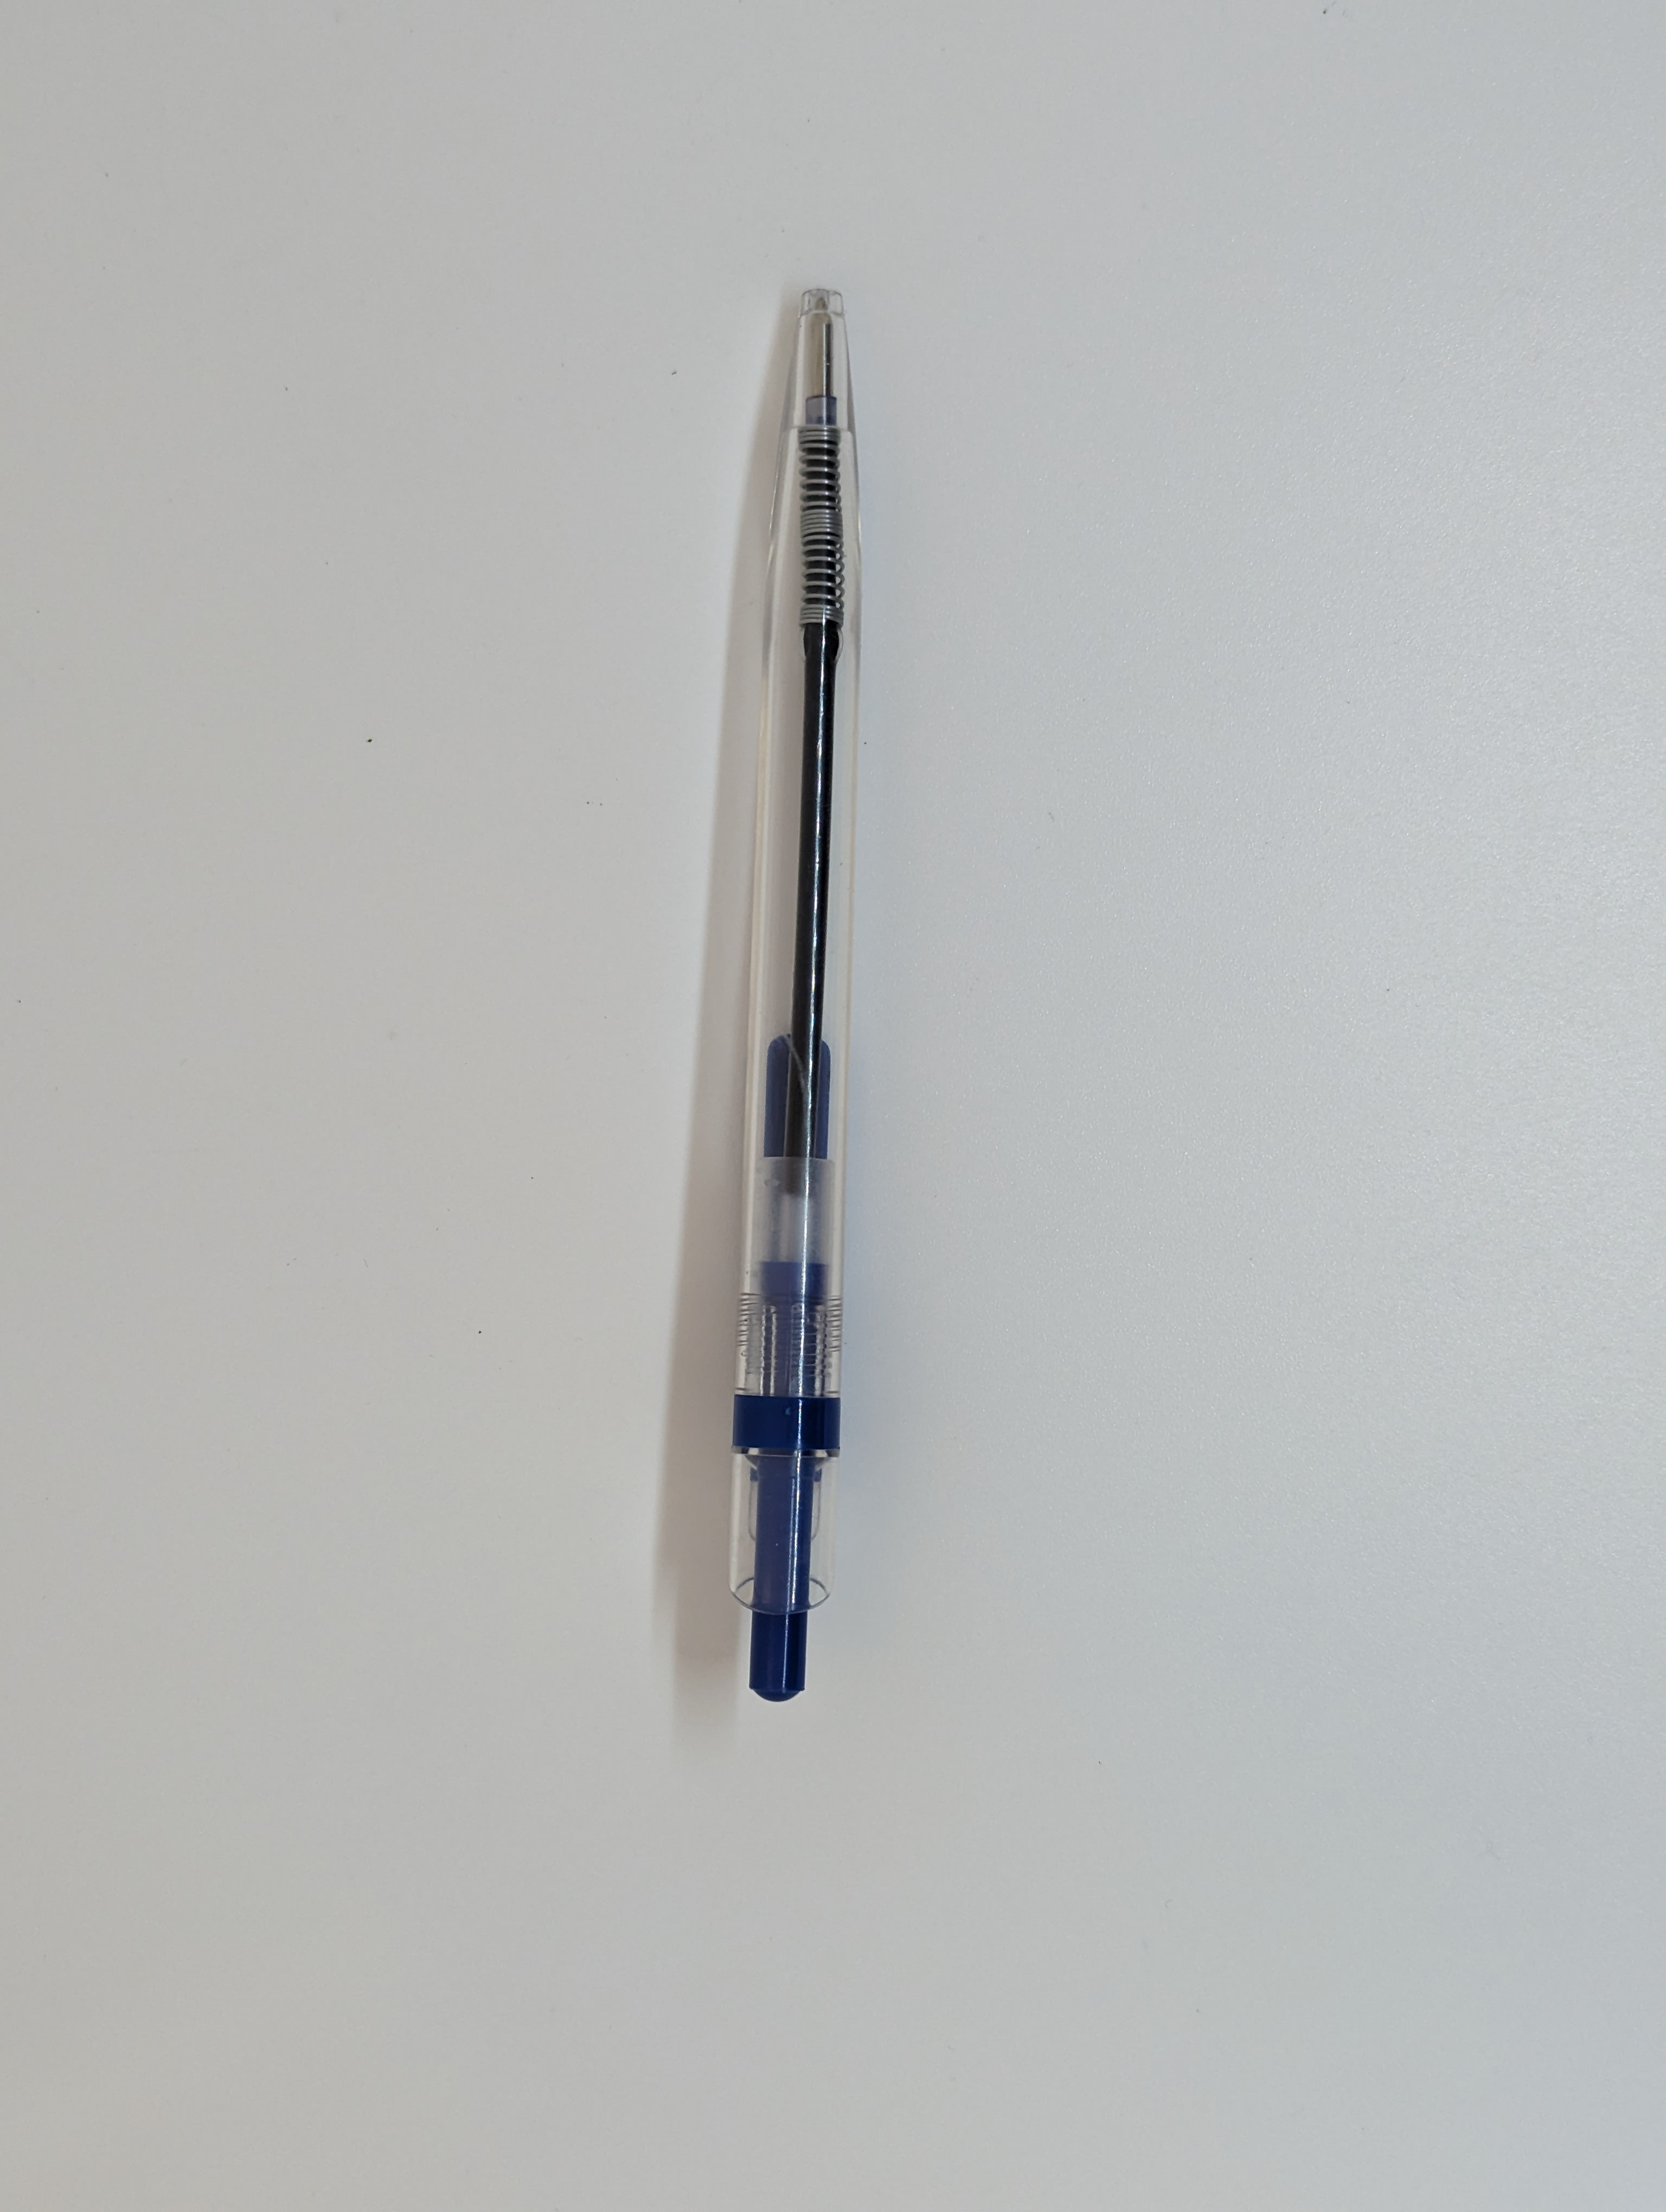regular-stylo: (681, 205, 952, 1770)
